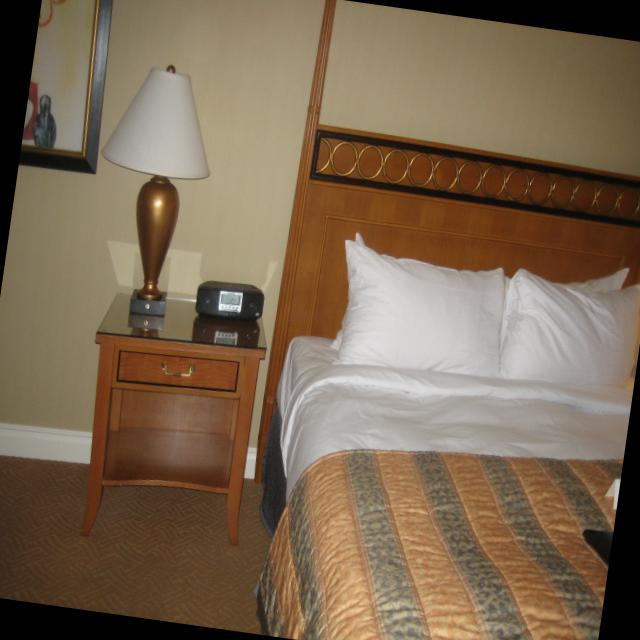Picture Crop: (25, 0, 114, 177)
bed frame: (250, 0, 640, 640)
clock crop: (197, 282, 263, 324)
floor -X: (0, 458, 615, 640)
handle bar: (156, 357, 200, 384)
lamp crop: (103, 71, 210, 300)
night table crop: (86, 295, 267, 543)
pillow occluded: (329, 238, 504, 376), (502, 263, 640, 384)
